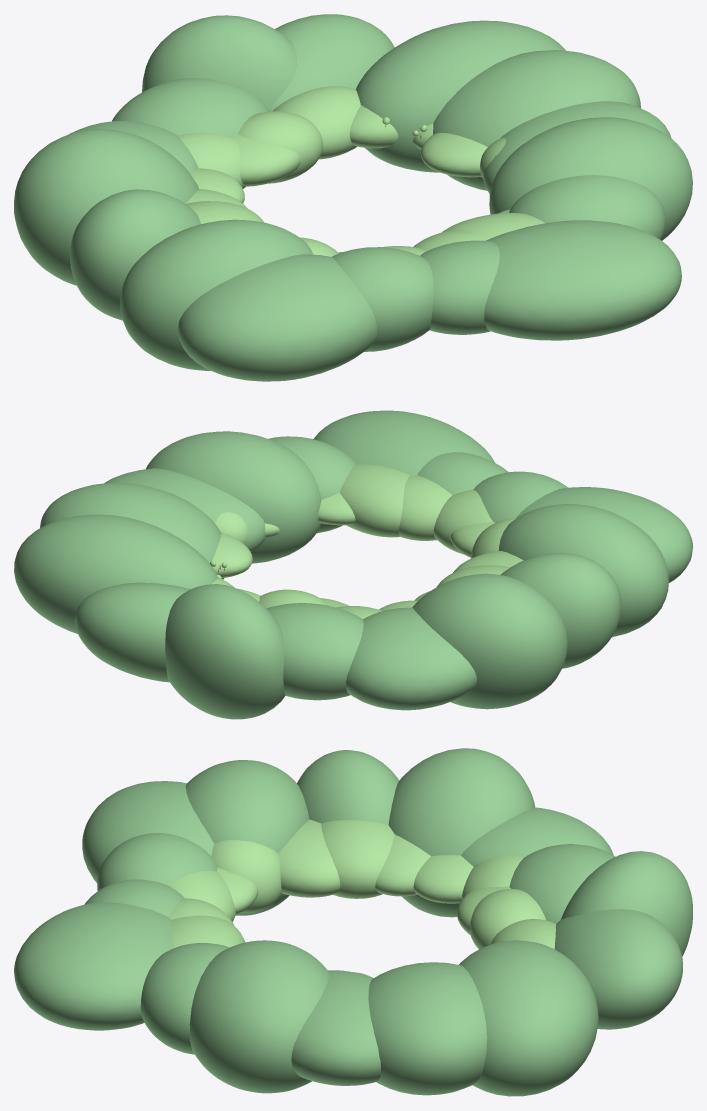
Rendered from valley_rim.glb.
3 views of the same model, one above another, from view 1: azimuth 30°, elevation 25°; view 2: azimuth 150°, elevation 25°; view 3: azimuth 270°, elevation 25° (orthographic). The views are drawn at different scales.
Parts seen in each view (by area): view 1: valley_rim; view 2: valley_rim; view 3: valley_rim.
Boxes of the visible parts, <box> form: valley_rim: <box>14,14,692,381</box>; valley_rim: <box>14,410,692,719</box>; valley_rim: <box>14,748,692,1096</box>.
Bounding box in the file's own units: 643 × 151 × 652.
